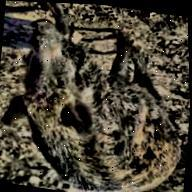boar: (0, 14, 185, 192)
